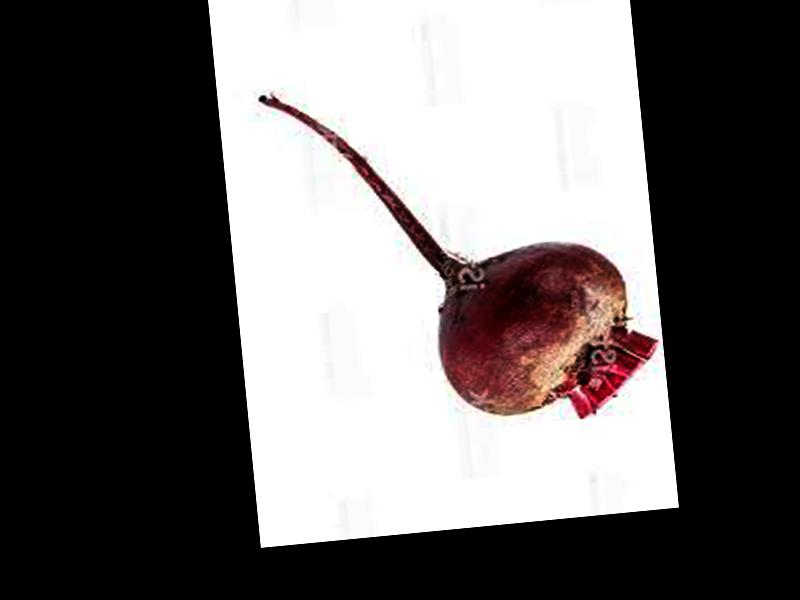Beet: (260, 59, 664, 444)
